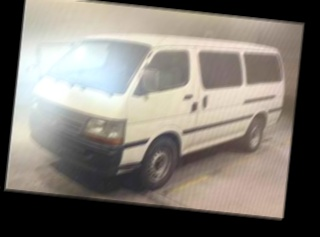van: (18, 22, 288, 201)
